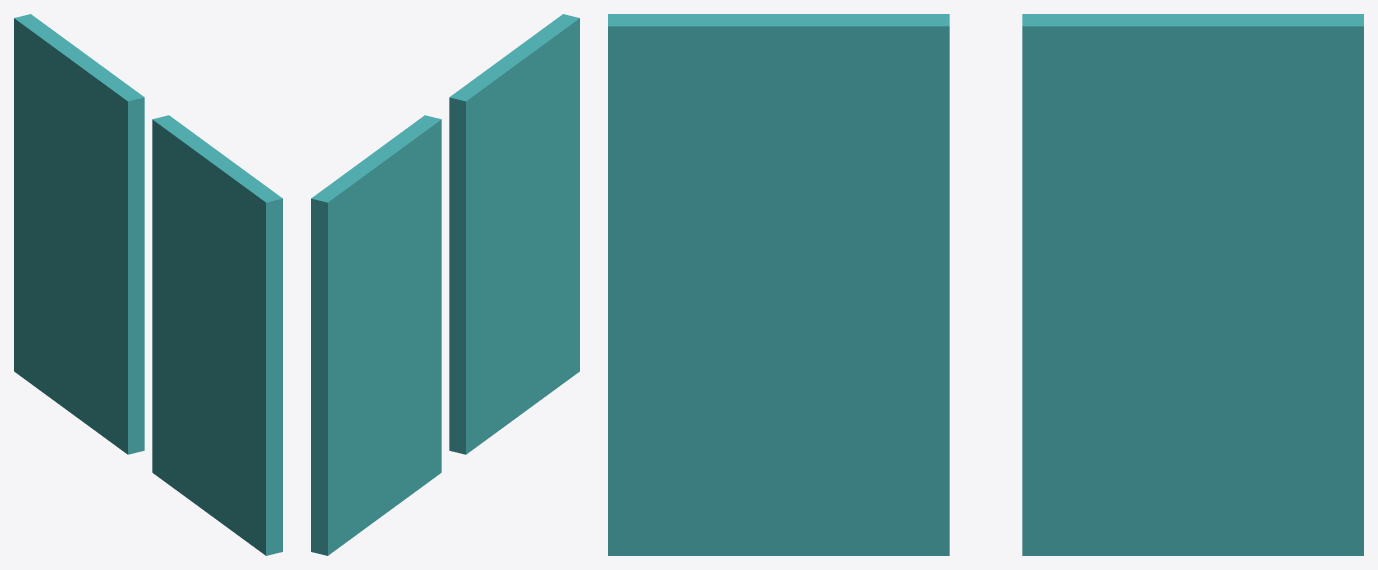
Rendered from Environment_Attachment_Window_C_Shattered.fbx.
3 views of the same model, side by side, from view 1: azimuth 30°, elevation 25°; view 2: azimuth 150°, elevation 25°; view 3: azimuth 270°, elevation 25° (orthographic). The views are drawn at different scales.
Parts seen in each view (by area): view 1: Environment_Attachment_Window_C4, Environment_Attachment_Window_C5, Environment_Attachment_Window_C9, Environment_Attachment_Window_C10, Environment_Attachment_Window_C6, Environment_Attachment_Window_C11, Environment_Attachment_Window_C7, Environment_Attachment_Window_C8; view 2: Environment_Attachment_Window_C4, Environment_Attachment_Window_C5, Environment_Attachment_Window_C9, Environment_Attachment_Window_C10, Environment_Attachment_Window_C6, Environment_Attachment_Window_C11, Environment_Attachment_Window_C7, Environment_Attachment_Window_C8; view 3: Environment_Attachment_Window_C4, Environment_Attachment_Window_C5, Environment_Attachment_Window_C10, Environment_Attachment_Window_C9, Environment_Attachment_Window_C6, Environment_Attachment_Window_C11, Environment_Attachment_Window_C8, Environment_Attachment_Window_C7.
Part boxes in pixels (x1,y1,x2,y2): Environment_Attachment_Window_C4: (14,220,165,454); Environment_Attachment_Window_C5: (14,14,113,238); Environment_Attachment_Window_C9: (67,144,209,371); Environment_Attachment_Window_C10: (164,145,282,323); Environment_Attachment_Window_C6: (200,280,282,473); Environment_Attachment_Window_C11: (152,371,221,522); Environment_Attachment_Window_C7: (97,75,209,214); Environment_Attachment_Window_C8: (207,390,282,555); Environment_Attachment_Window_C4: (311,326,479,555); Environment_Attachment_Window_C5: (311,137,411,422); Environment_Attachment_Window_C9: (381,180,523,333); Environment_Attachment_Window_C10: (478,14,579,221); Environment_Attachment_Window_C6: (514,101,579,291); Environment_Attachment_Window_C11: (449,283,534,454); Environment_Attachment_Window_C7: (395,67,507,205); Environment_Attachment_Window_C8: (521,289,579,403); Environment_Attachment_Window_C4: (906,270,1363,555); Environment_Attachment_Window_C5: (1111,14,1363,356); Environment_Attachment_Window_C10: (608,14,915,270); Environment_Attachment_Window_C9: (778,123,1203,388); Environment_Attachment_Window_C6: (608,149,806,430); Environment_Attachment_Window_C11: (747,352,949,555); Environment_Attachment_Window_C8: (608,369,790,555); Environment_Attachment_Window_C7: (824,14,1113,155).
Bounding box in the file's own units: 0.0394 × 0.7901 × 1.02.
